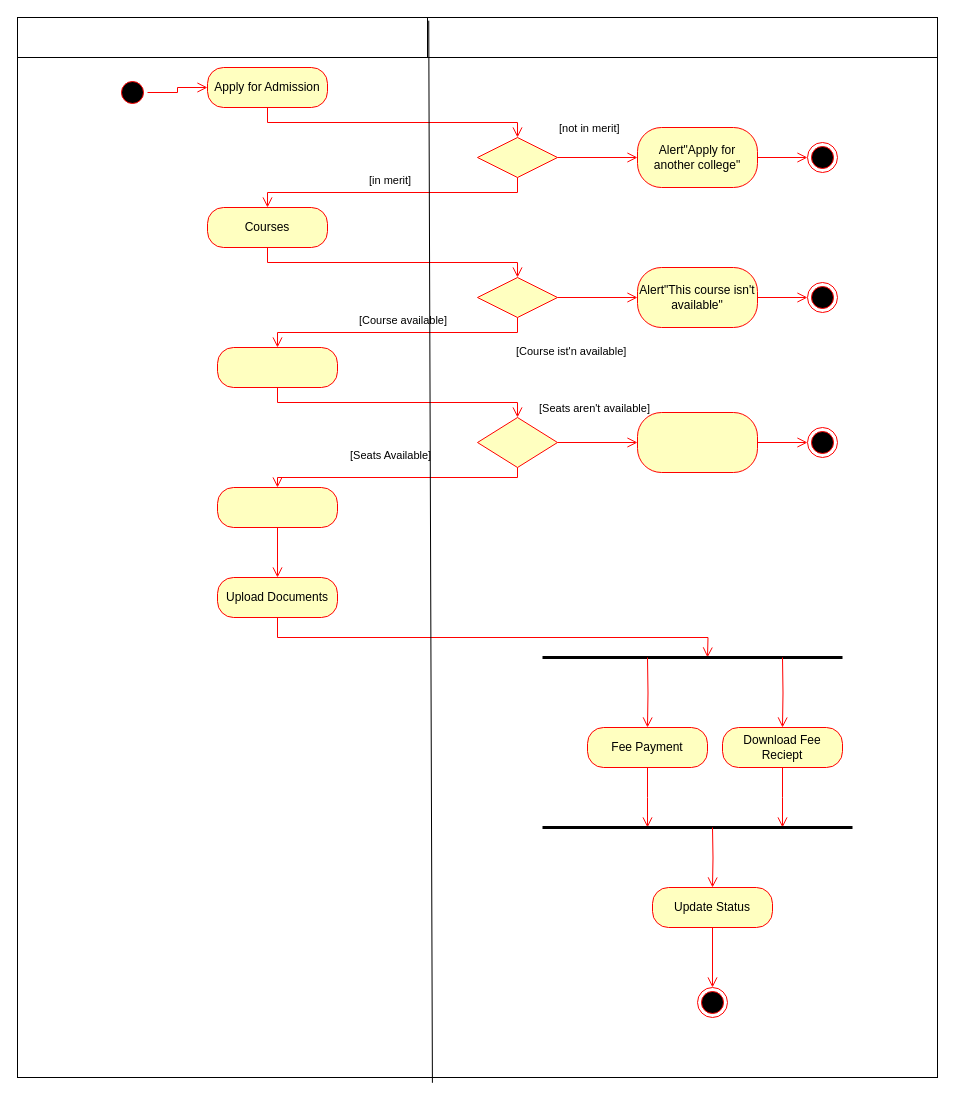
Image size: 955x1102. Some labels were removed from this diagram. Each missing label, with the centre of its shape:
Alert"Seats aren't available": pixel 697 442
Application Form: pixel 277 507
Check Seats: pixel 277 367
fdhbf: pixel 222 37
